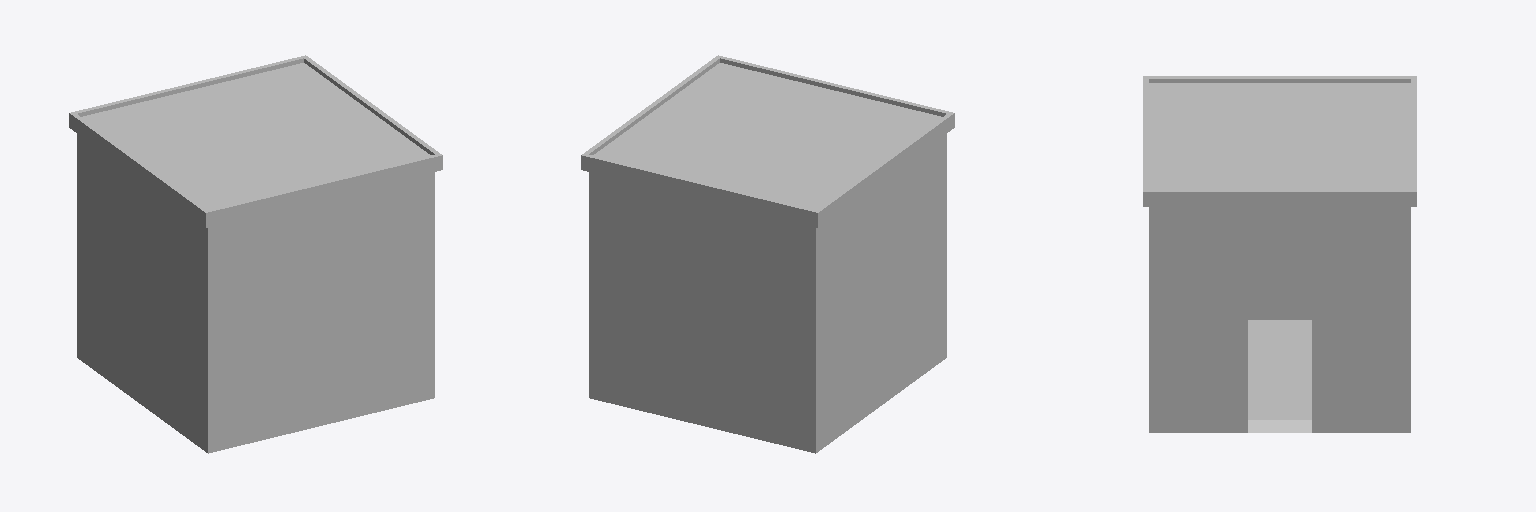
Rendered from test_building.obj.
The picture shows the model from 3 angles: view 1: azimuth 30°, elevation 25°; view 2: azimuth 150°, elevation 25°; view 3: azimuth 270°, elevation 25°; orthographic projection.
Visible parts, largest first — view 1: Cube; view 2: Cube; view 3: Cube.
Part boxes in pixels (bbox=[...]): Cube: bbox=[69, 55, 442, 453]; Cube: bbox=[581, 55, 954, 453]; Cube: bbox=[1143, 76, 1416, 432].
Size of the model in its own units: 16.67 by 16.4 by 16.67.